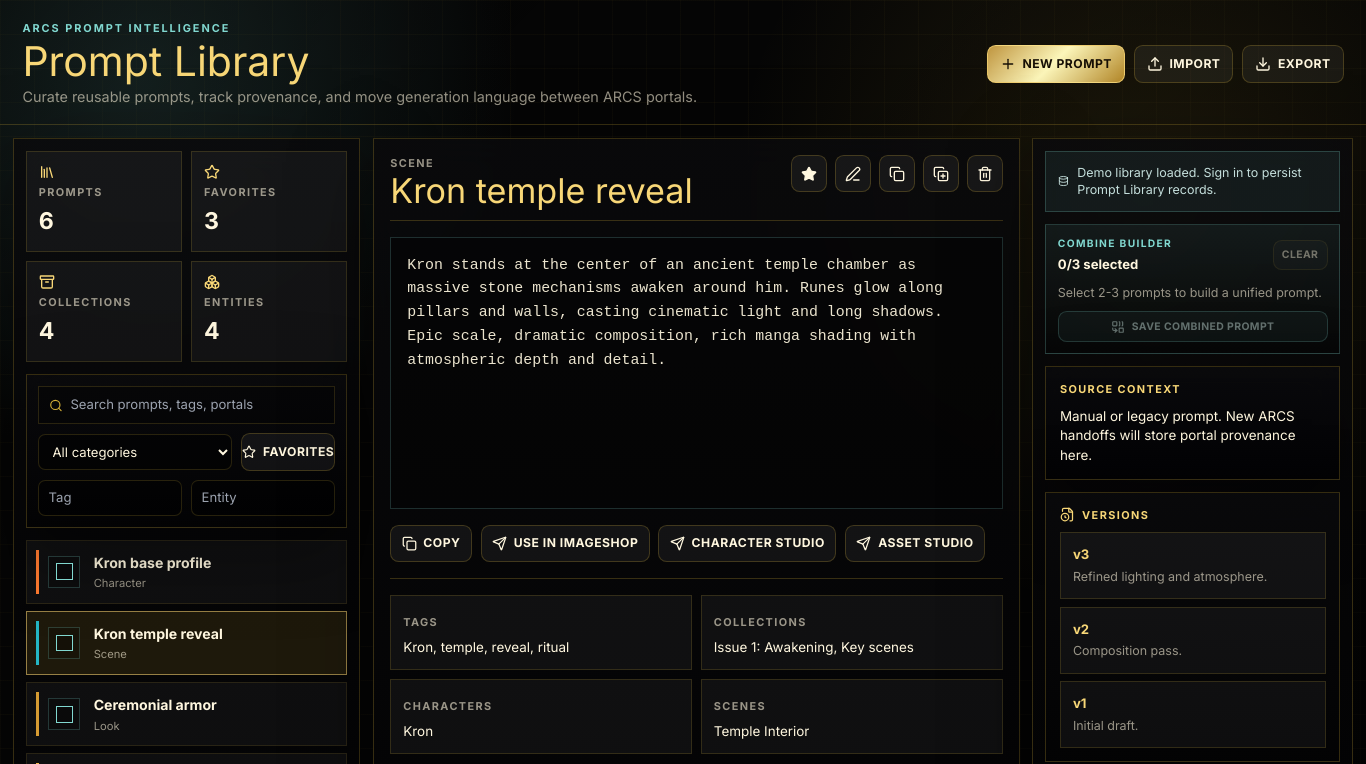
Test: PromptLibraryPortal › supports shift range selection from prompt rows
Press Space in the button "Kron base profile Character", box top-left (90, 550), bottom-right (338, 594)
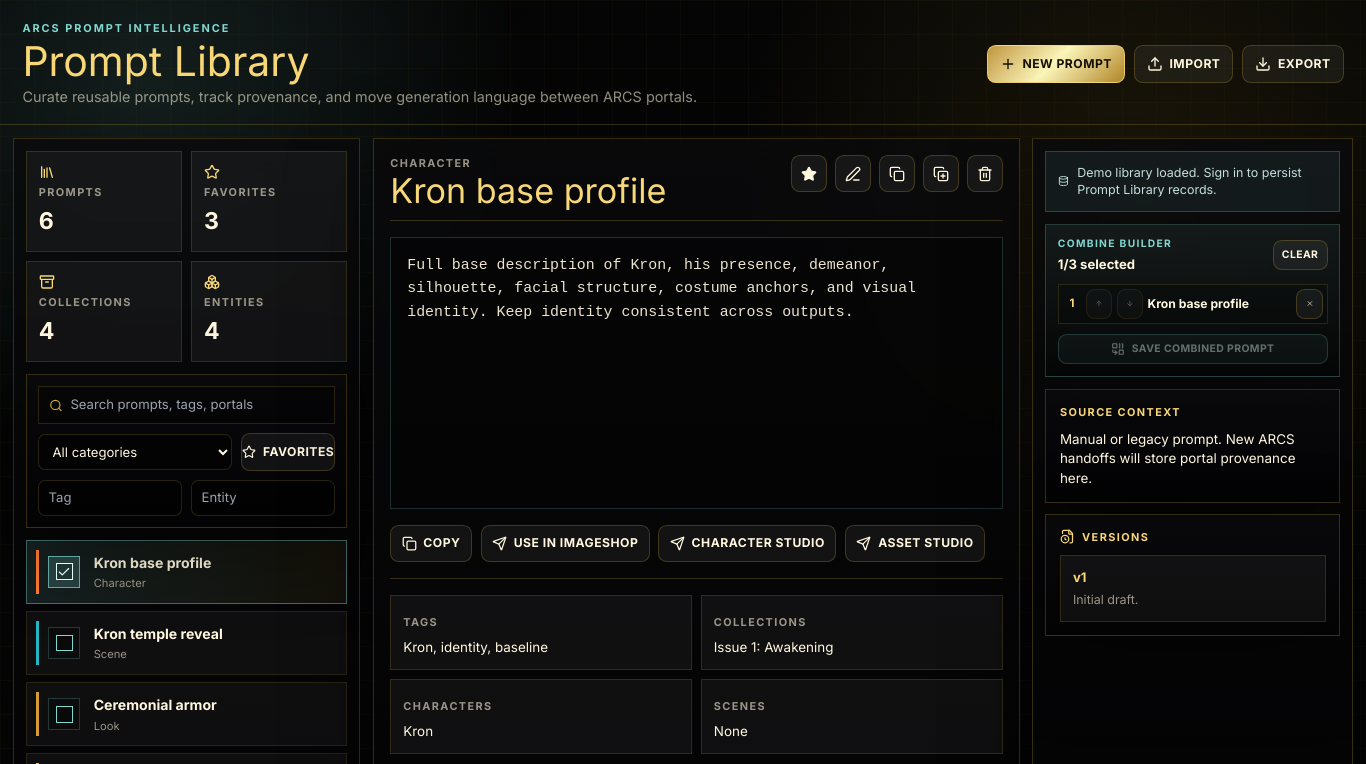
Click the button "Ceremonial armor Look" at (214,714), box top-left (90, 692), bottom-right (338, 736)
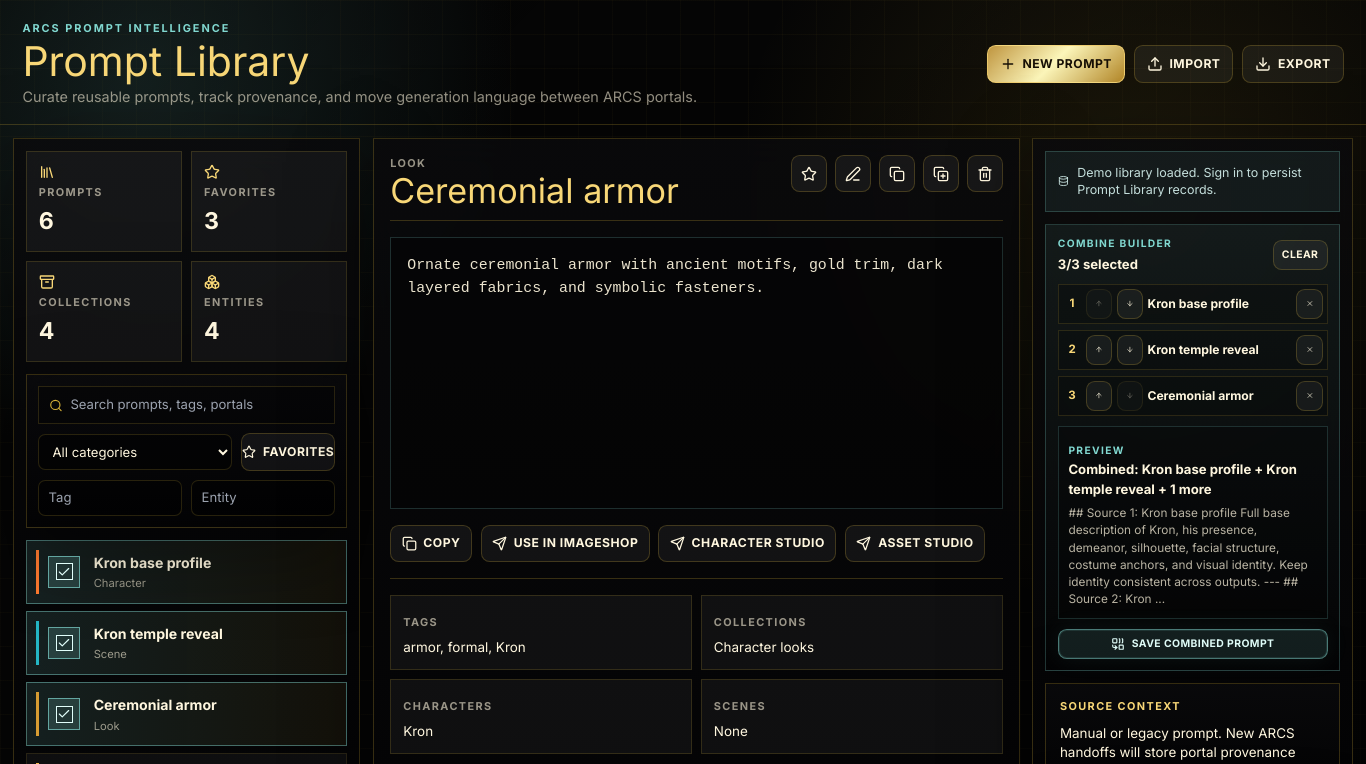
Check: the text "3/3 selected" is shown, box top-left (1058, 256), bottom-right (1138, 272)
Check: the text "Combined: Kron base profile + Kron temple reveal + 1 more" is shown, box top-left (1068, 460), bottom-right (1317, 500)
